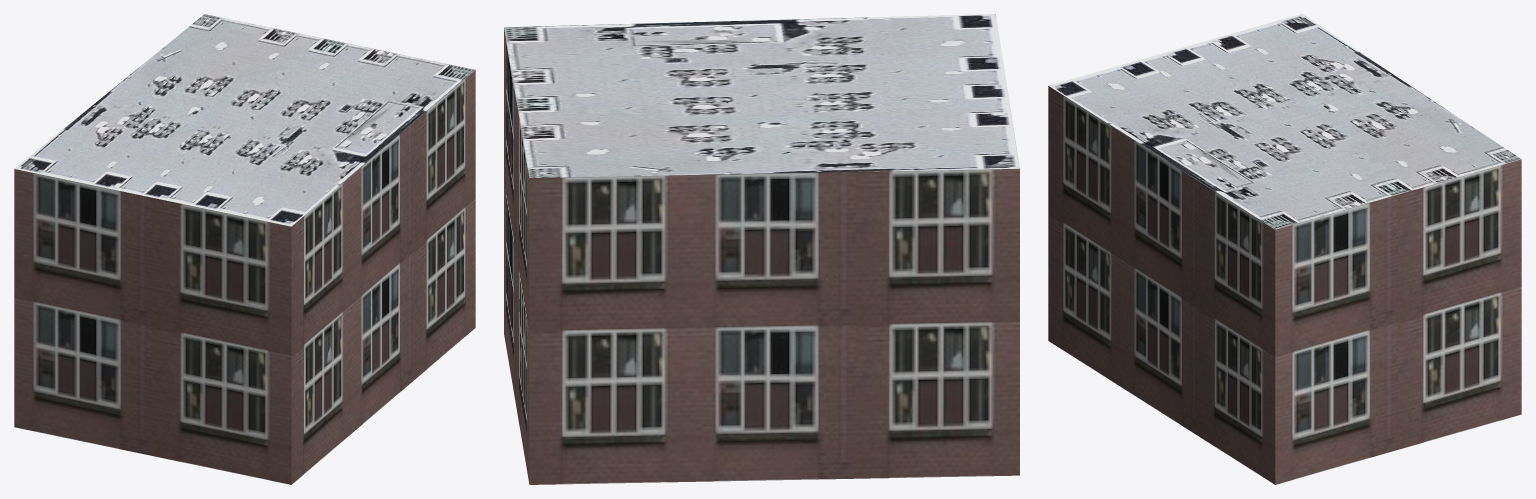
File: ResTex__2486.fbx
3 views of the same model, side by side, from view 1: azimuth 30°, elevation 25°; view 2: azimuth 150°, elevation 25°; view 3: azimuth 270°, elevation 25° (orthographic). The views are drawn at different scales.
Visible parts, largest first — view 1: CityEngineMaterial_12_m, CityEngineMaterial_8_m; view 2: CityEngineMaterial_12_m, CityEngineMaterial_8_m; view 3: CityEngineMaterial_12_m, CityEngineMaterial_8_m.
Part boxes in pixels (bbox=[...]): CityEngineMaterial_12_m: bbox=[14, 70, 475, 484]; CityEngineMaterial_8_m: bbox=[15, 14, 474, 226]; CityEngineMaterial_12_m: bbox=[504, 28, 1019, 484]; CityEngineMaterial_8_m: bbox=[504, 14, 1019, 177]; CityEngineMaterial_12_m: bbox=[1048, 86, 1521, 484]; CityEngineMaterial_8_m: bbox=[1048, 14, 1521, 229].
Bounding box in the file's own units: 10.89 × 6 × 10.09.
2 materials, 2 textured.
